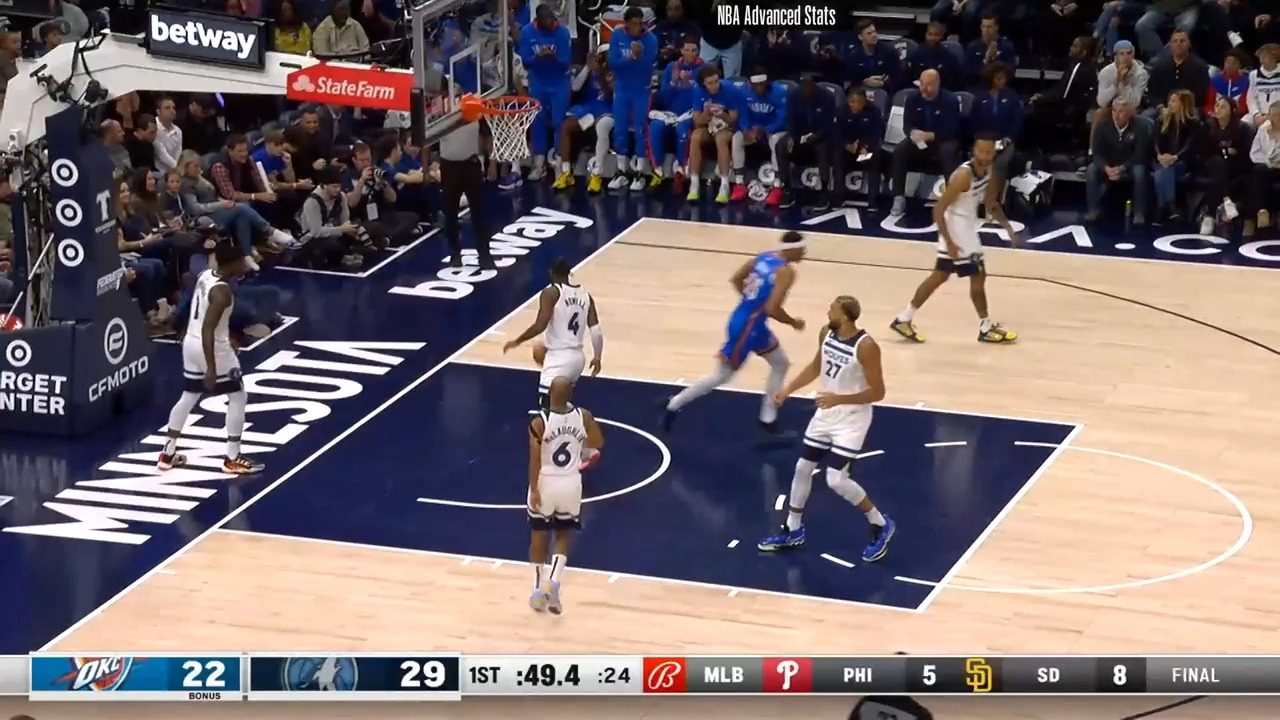net: (459, 86, 540, 158)
player: (768, 292, 897, 564), (661, 230, 821, 438), (900, 135, 1021, 348), (151, 246, 254, 483), (502, 255, 608, 477)
referee: (527, 380, 605, 622), (426, 106, 498, 283)
